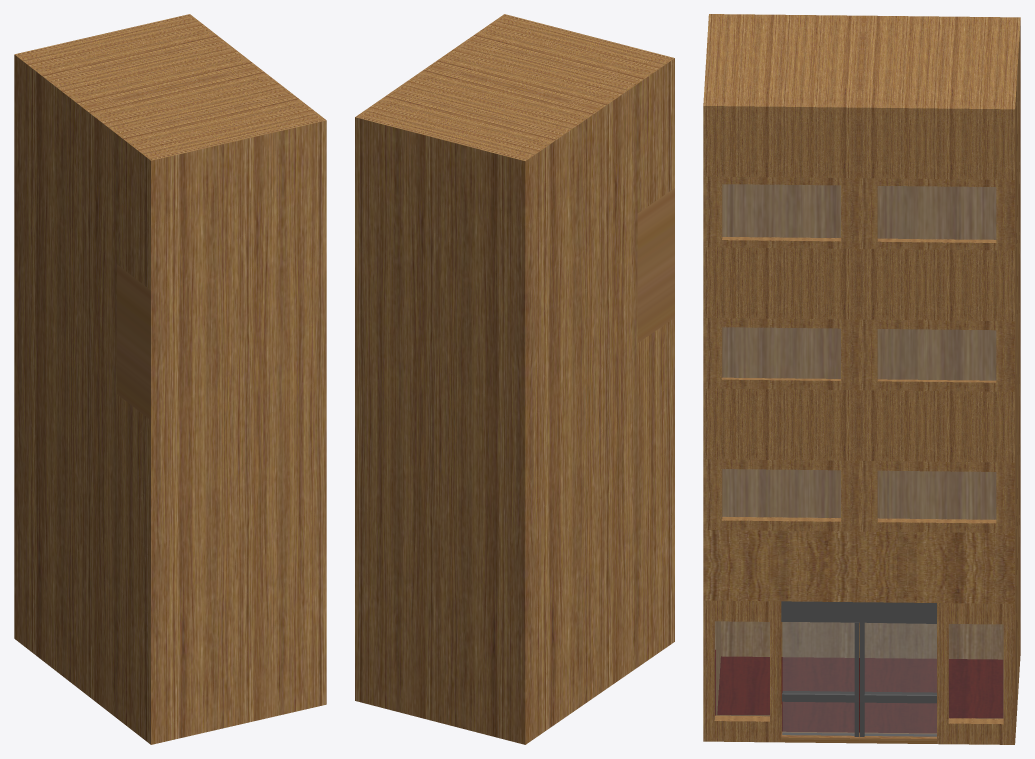
The model's file is educationbuilding.fbx.
The picture shows the model from 3 angles, left to right: view 1: azimuth 30°, elevation 25°; view 2: azimuth 150°, elevation 25°; view 3: azimuth 270°, elevation 25°; orthographic projection. The views are drawn at different scales.
Parts seen in each view (by area): view 1: buidling; view 2: buidling; view 3: buidling, insidewall, door, dirt1:doordoor1.
Boxes of the visible parts, box(x1,y1,x2,y2) form: buidling: box(14, 14, 326, 744); buidling: box(355, 14, 674, 744); buidling: box(703, 14, 1020, 744); insidewall: box(716, 184, 1003, 731); door: box(782, 622, 859, 736); dirt1:doordoor1: box(860, 622, 936, 736).
Size of the model in its own units: 618 by 1920 by 869.
